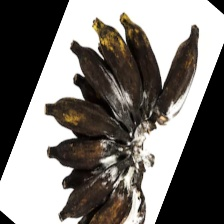banana: (24, 45, 177, 180)
